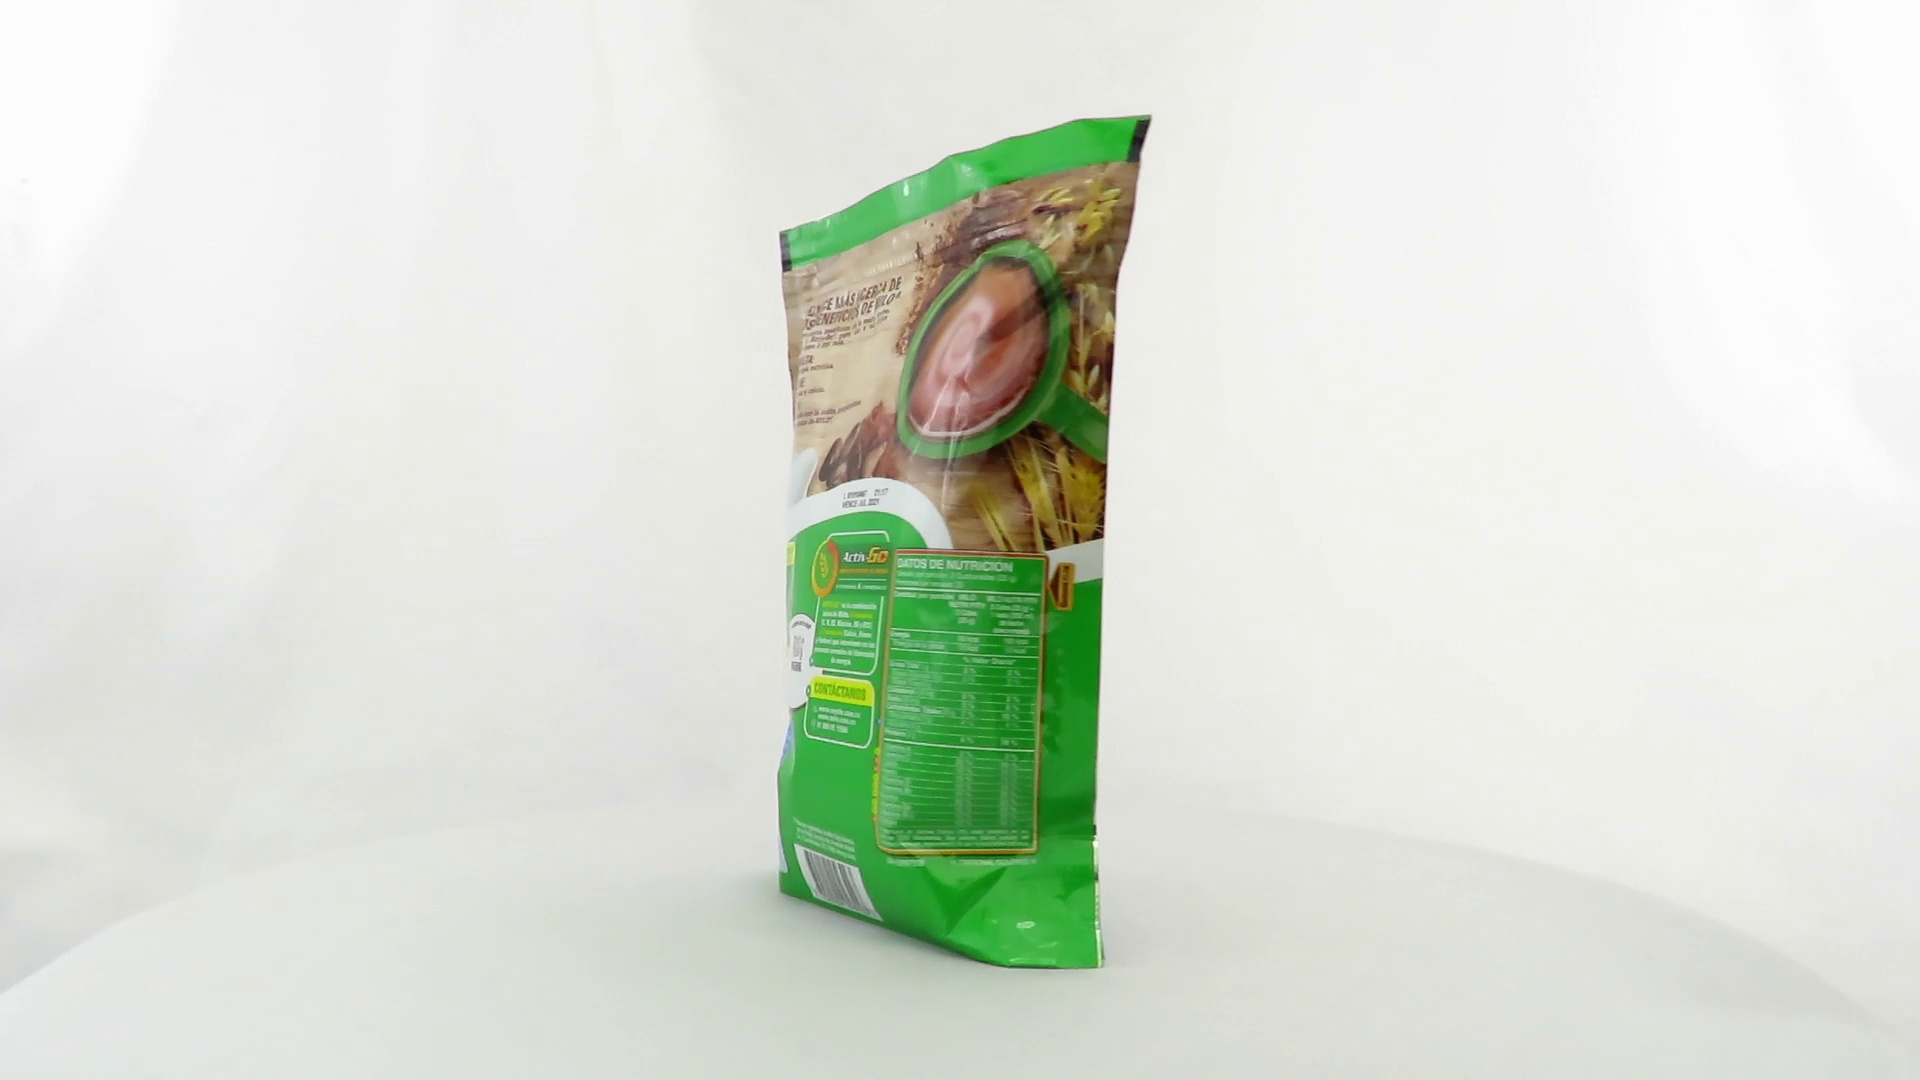COL0170205DYP50000: (771, 109, 1158, 976)
